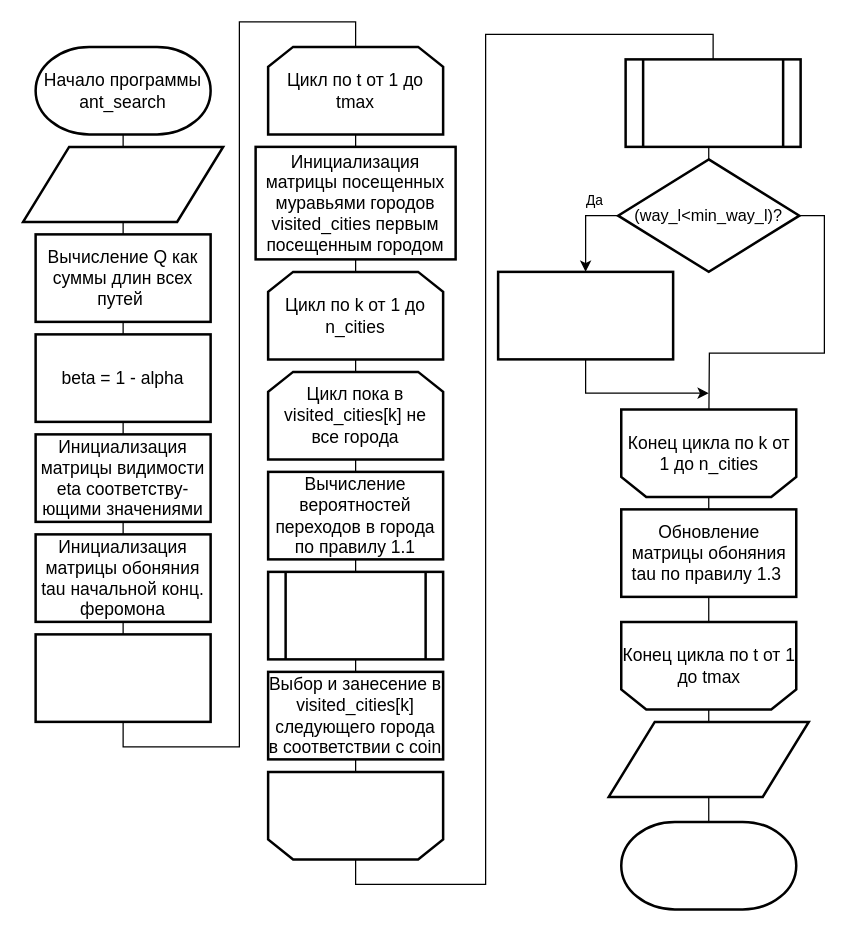
Image size: 848x933. Some labels were removed from this diagram. The box of each missing label's shape, as (x1, y1, x2, y2) in pixels:
D, n_cities, alpha, po, tmax: (21, 145, 224, 222)
min_way_l = INF: (34, 632, 211, 722)
min_way_l = way_l min_way = visited_cities[k]: (496, 270, 674, 360)
min_way_l, min_way: (607, 720, 809, 798)
way_l = count_way_len( D, visited_cities[k]): (624, 58, 801, 148)
Генерация случайной величины coin: (266, 570, 444, 660)
Конец программы full_search: (619, 820, 797, 910)
Конец цикла пока в visited_cities[k] не все города: (266, 770, 444, 860)
